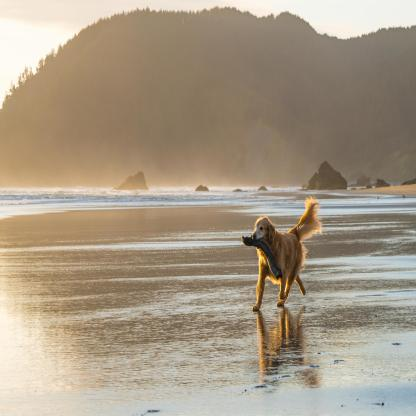dog: (246, 218, 323, 309)
